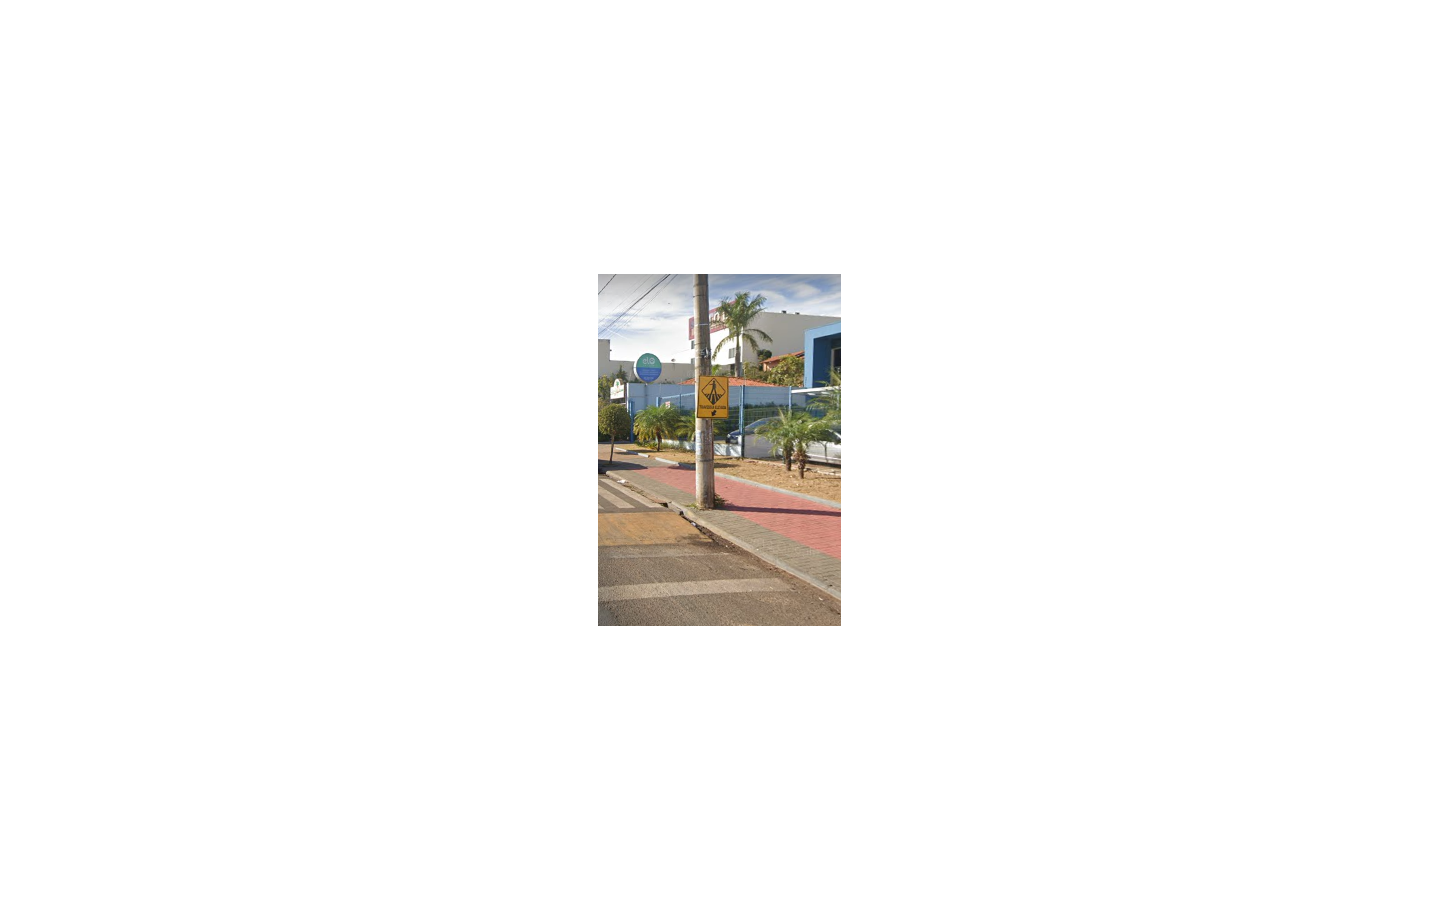telev: (697, 375, 728, 418)
